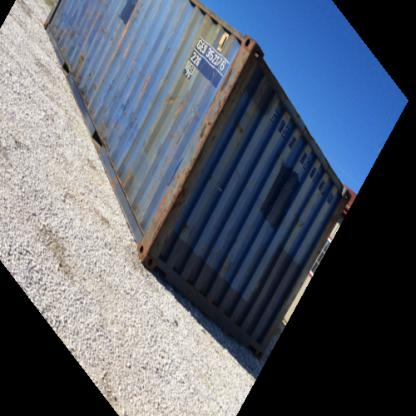Damage: (122, 166, 150, 226), (69, 51, 102, 100), (160, 89, 204, 123), (122, 5, 153, 42), (215, 51, 238, 94), (98, 112, 125, 145), (52, 14, 83, 41), (132, 67, 150, 103), (237, 119, 249, 133)
